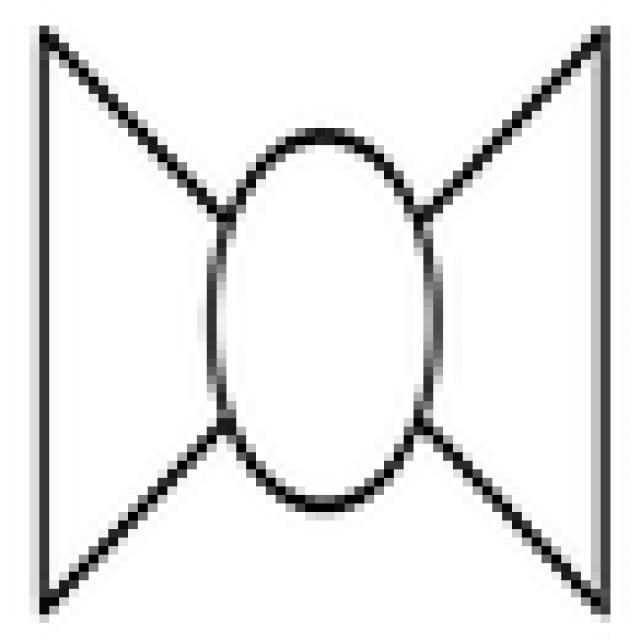ball valve: (41, 25, 610, 619)
